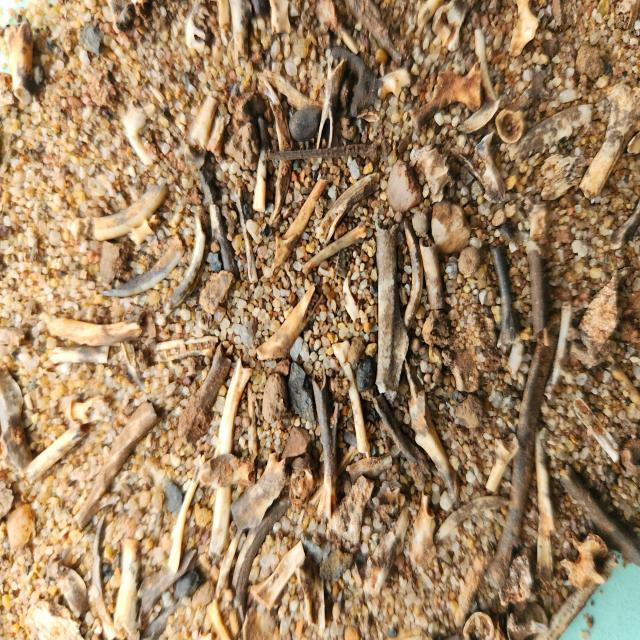fossil: (480, 323, 560, 594), (74, 392, 161, 536), (551, 460, 640, 570), (404, 360, 462, 512), (368, 217, 412, 404), (533, 544, 618, 640), (577, 82, 640, 205), (232, 495, 294, 611), (570, 260, 636, 366), (98, 231, 187, 305), (503, 97, 597, 166), (229, 442, 294, 540), (252, 279, 326, 364), (371, 392, 434, 491), (269, 176, 329, 275), (175, 338, 232, 442), (328, 339, 374, 460), (358, 500, 412, 602), (167, 447, 210, 575), (305, 360, 339, 521), (135, 546, 200, 628), (92, 176, 173, 241), (315, 167, 384, 243), (162, 211, 210, 320), (494, 61, 554, 146), (261, 74, 293, 229), (250, 532, 310, 614), (22, 423, 94, 490), (412, 58, 484, 125), (530, 422, 558, 594), (453, 129, 514, 207), (541, 292, 580, 410), (300, 219, 376, 276), (345, 0, 406, 70), (569, 390, 622, 470), (330, 45, 385, 121), (0, 359, 34, 476), (111, 533, 148, 640), (434, 492, 516, 540), (324, 479, 378, 547), (452, 543, 497, 624), (262, 66, 334, 116), (210, 357, 243, 465), (314, 54, 350, 152), (91, 510, 118, 640), (486, 240, 516, 356), (204, 464, 237, 566), (43, 549, 90, 620), (309, 0, 367, 57), (44, 314, 144, 347), (558, 528, 610, 591), (535, 148, 587, 211), (260, 138, 381, 164), (2, 16, 36, 108), (22, 594, 89, 640), (289, 553, 328, 631), (414, 143, 460, 207), (232, 188, 261, 286), (400, 219, 424, 337), (525, 236, 551, 342), (118, 94, 154, 170), (154, 330, 223, 369), (417, 234, 451, 313), (213, 516, 244, 602), (231, 516, 264, 594), (430, 0, 476, 54), (198, 450, 259, 490), (186, 89, 221, 157), (405, 498, 439, 567), (224, 118, 262, 179), (485, 430, 520, 494), (257, 371, 294, 431), (506, 0, 544, 58), (496, 550, 534, 608), (601, 200, 640, 256), (142, 593, 188, 640), (60, 388, 114, 428), (501, 598, 552, 640), (444, 343, 484, 395), (473, 27, 501, 101), (604, 364, 640, 421), (79, 65, 121, 112), (181, 0, 215, 58), (343, 451, 396, 488), (51, 342, 116, 372), (454, 97, 504, 136), (119, 342, 152, 401), (339, 268, 368, 333), (210, 204, 236, 273), (237, 604, 286, 640), (227, 86, 271, 126), (574, 38, 611, 84), (314, 547, 356, 587), (6, 502, 37, 554), (227, 0, 251, 67), (199, 271, 236, 314), (102, 0, 141, 40), (456, 603, 498, 640), (451, 238, 486, 282), (276, 425, 314, 464), (421, 310, 456, 352), (453, 393, 490, 432), (606, 0, 639, 43), (204, 112, 234, 158), (95, 240, 124, 286), (288, 464, 319, 506), (206, 595, 234, 640), (375, 67, 413, 100), (128, 211, 162, 245), (253, 139, 268, 214), (0, 323, 33, 357), (172, 567, 206, 600), (246, 380, 260, 460), (0, 64, 18, 126), (616, 434, 640, 479), (415, 0, 448, 30), (268, 0, 293, 37), (0, 476, 17, 524), (412, 204, 434, 241), (198, 168, 220, 204), (215, 0, 231, 49), (545, 0, 566, 36), (284, 0, 304, 23), (251, 0, 271, 18)
